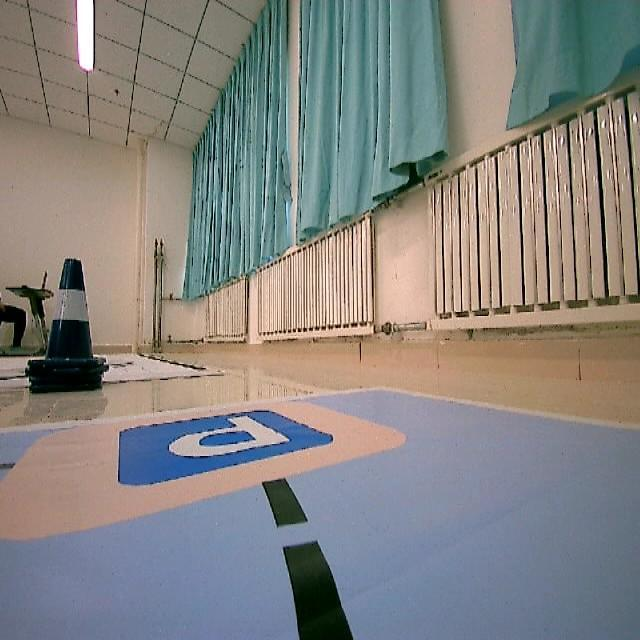obstacle: (22, 245, 120, 396)
